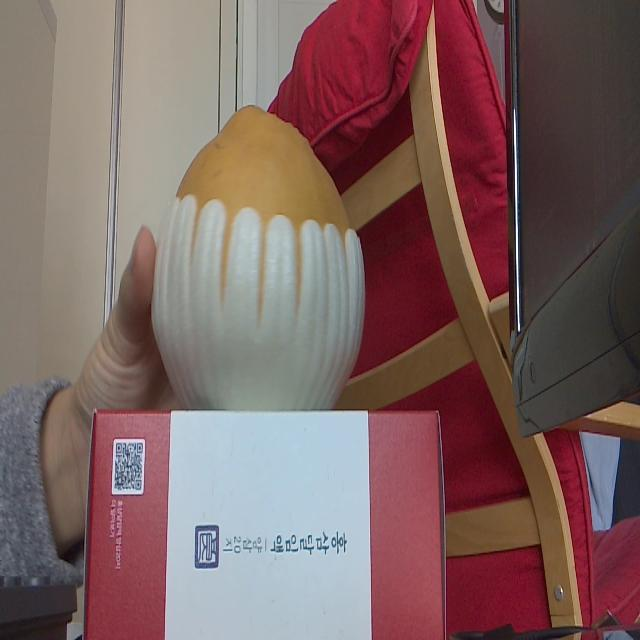pear: (150, 104, 364, 412)
